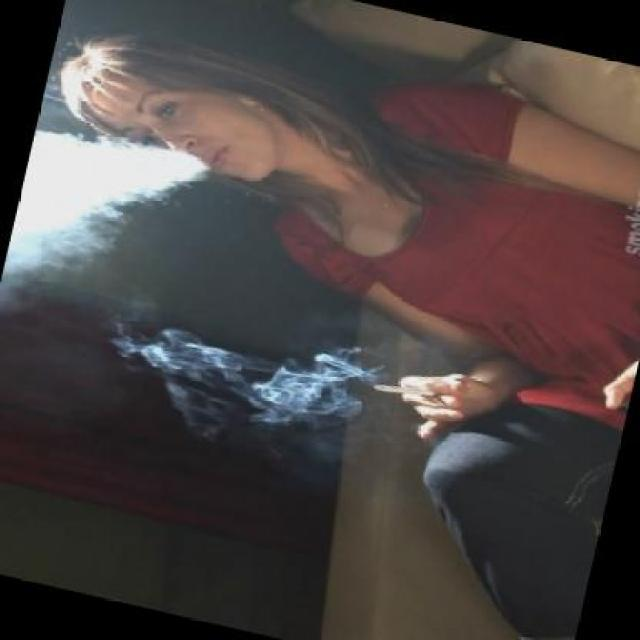cigarette: (374, 374, 443, 404)
